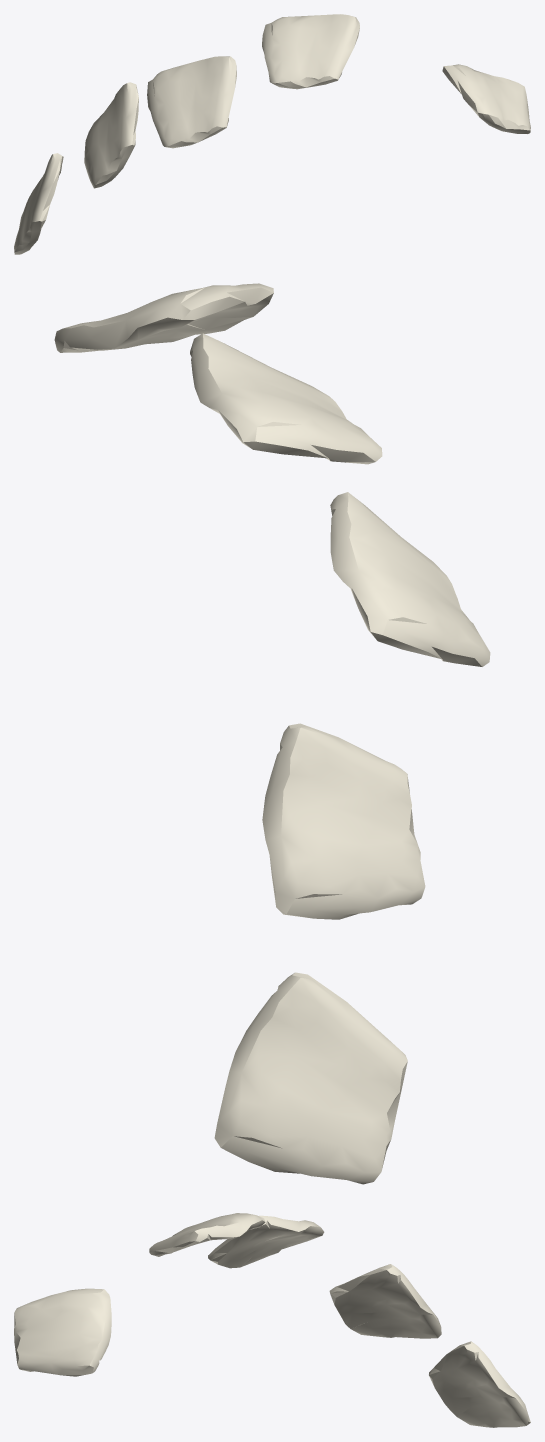
The model's file is fma44273_mm1380m.glb.
The picture shows the model from 3 angles, top to bottom: view 1: azimuth 30°, elevation 25°; view 2: azimuth 150°, elevation 25°; view 3: azimuth 270°, elevation 25°; orthographic projection. The views are drawn at different scales.
Parts seen in each view (by area): view 1: FMA44273_MM1380M; view 2: FMA44273_MM1380M; view 3: FMA44273_MM1380M.
Part boxes in pixels (x1=…): FMA44273_MM1380M: x1=14, y1=14, x2=530, y2=254; FMA44273_MM1380M: x1=54, y1=283, x2=490, y2=1184; FMA44273_MM1380M: x1=14, y1=1213, x2=530, y2=1427.
Bounding box in the file's own units: 0.0432 × 0.0345 × 0.0526.
